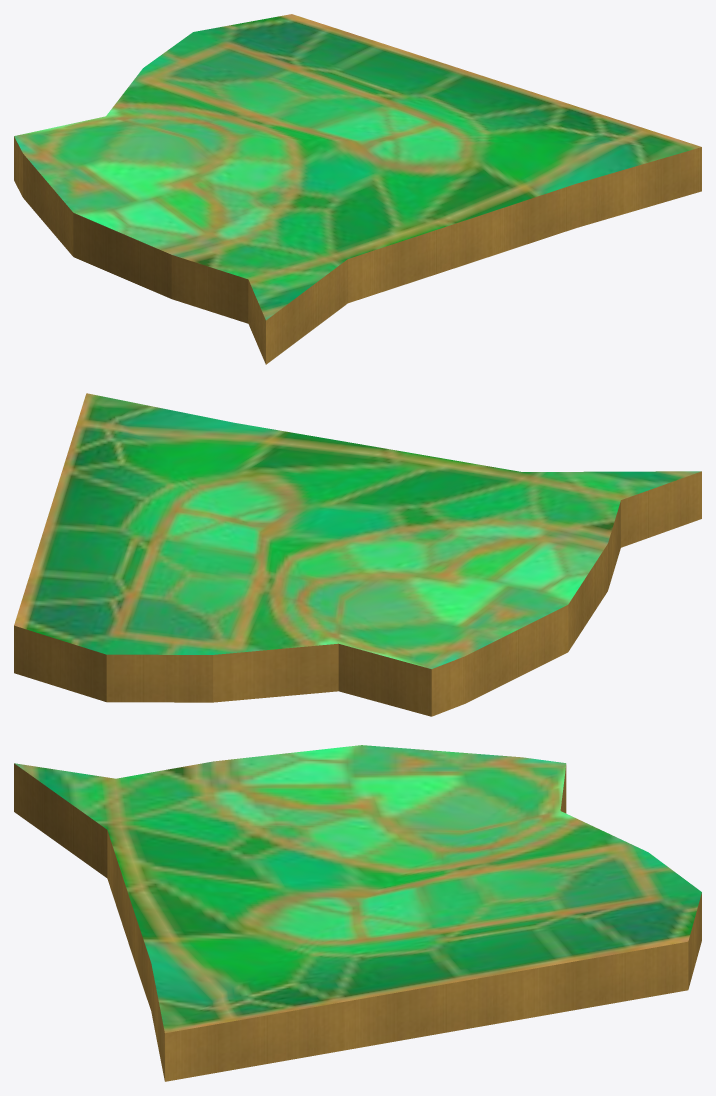
File: lb_chunk_3_2.glb
The picture shows the model from 3 angles, top to bottom: view 1: azimuth 30°, elevation 25°; view 2: azimuth 150°, elevation 25°; view 3: azimuth 270°, elevation 25°; orthographic projection. The views are drawn at different scales.
Visible parts, largest first — view 1: lb_chunk_3_2; view 2: lb_chunk_3_2; view 3: lb_chunk_3_2.
Boxes of the visible parts, box(x1,y1,x2,y2) form: lb_chunk_3_2: box(14, 14, 701, 364); lb_chunk_3_2: box(14, 393, 701, 716); lb_chunk_3_2: box(14, 745, 701, 1081).
Bounding box in the file's own units: 4.57 × 0.36 × 4.61.
Materials: 2 (2 with a texture image).
